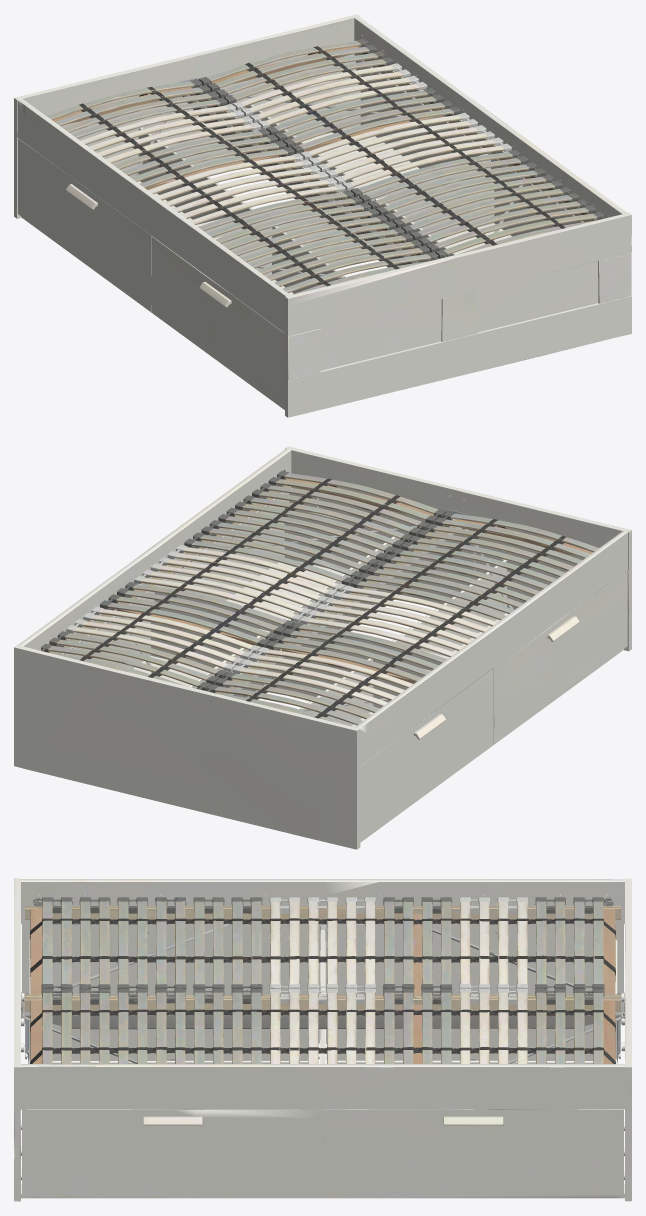
3 views of the same model, one above another, from view 1: azimuth 30°, elevation 25°; view 2: azimuth 150°, elevation 25°; view 3: azimuth 270°, elevation 25° (orthographic). The views are drawn at different scales.
Parts seen in each view (by area): view 1: base_bedsize; view 2: base_bedsize; view 3: base_bedsize.
Boxes of the visible parts, bbox=[...] form: base_bedsize: bbox=[14, 14, 631, 417]; base_bedsize: bbox=[14, 446, 631, 849]; base_bedsize: bbox=[14, 878, 631, 1201].
Bounding box in the file's own units: 1.46 × 0.4702 × 1.96.
1 material, 1 textured.
